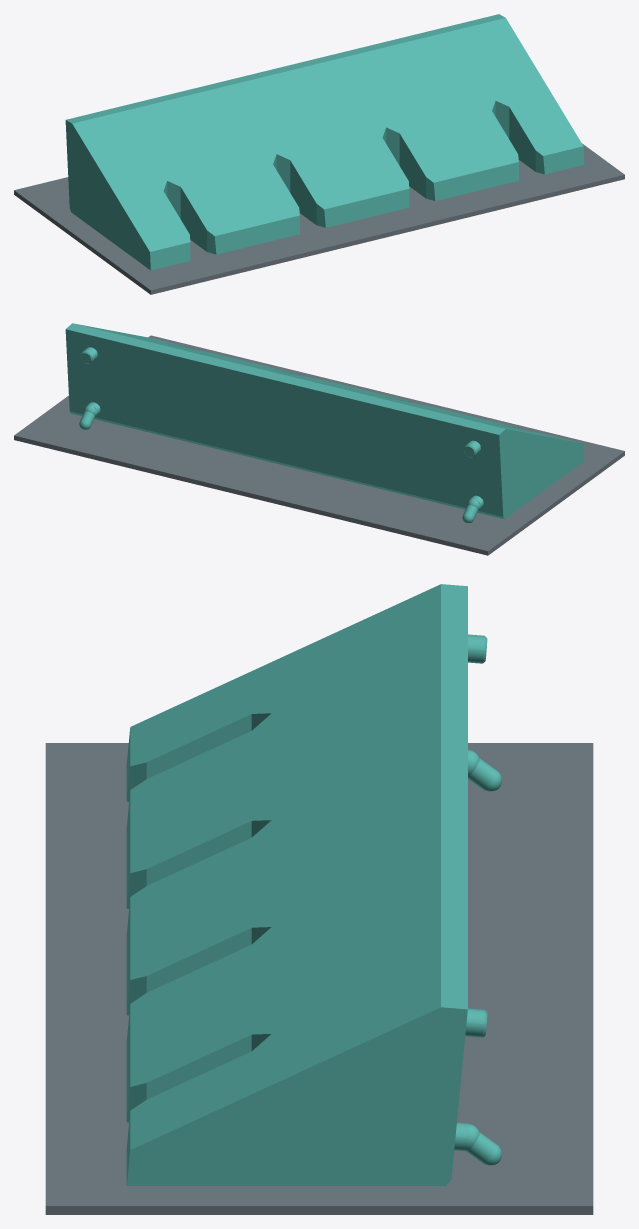
Rendered from part-bd01-slope-e__v1__print-sloped-top.glb.
3 renders of one model, top to bottom at view 1: azimuth 30°, elevation 25°; view 2: azimuth 150°, elevation 25°; view 3: azimuth 270°, elevation 25°, orthographic. The views are drawn at different scales.
Visible parts, largest first — view 1: Actual holder mesh, Print bed; view 2: Actual holder mesh, Print bed; view 3: Actual holder mesh, Print bed.
Part boxes in pixels (x1,y1,x2,y2): Actual holder mesh: (65, 14, 584, 270); Print bed: (14, 143, 624, 294); Actual holder mesh: (65, 323, 584, 522); Print bed: (14, 335, 624, 555); Actual holder mesh: (126, 584, 501, 1185); Print bed: (45, 743, 593, 1214).
Size of the model in its own units: 0.22 by 0.0416 by 0.11.
